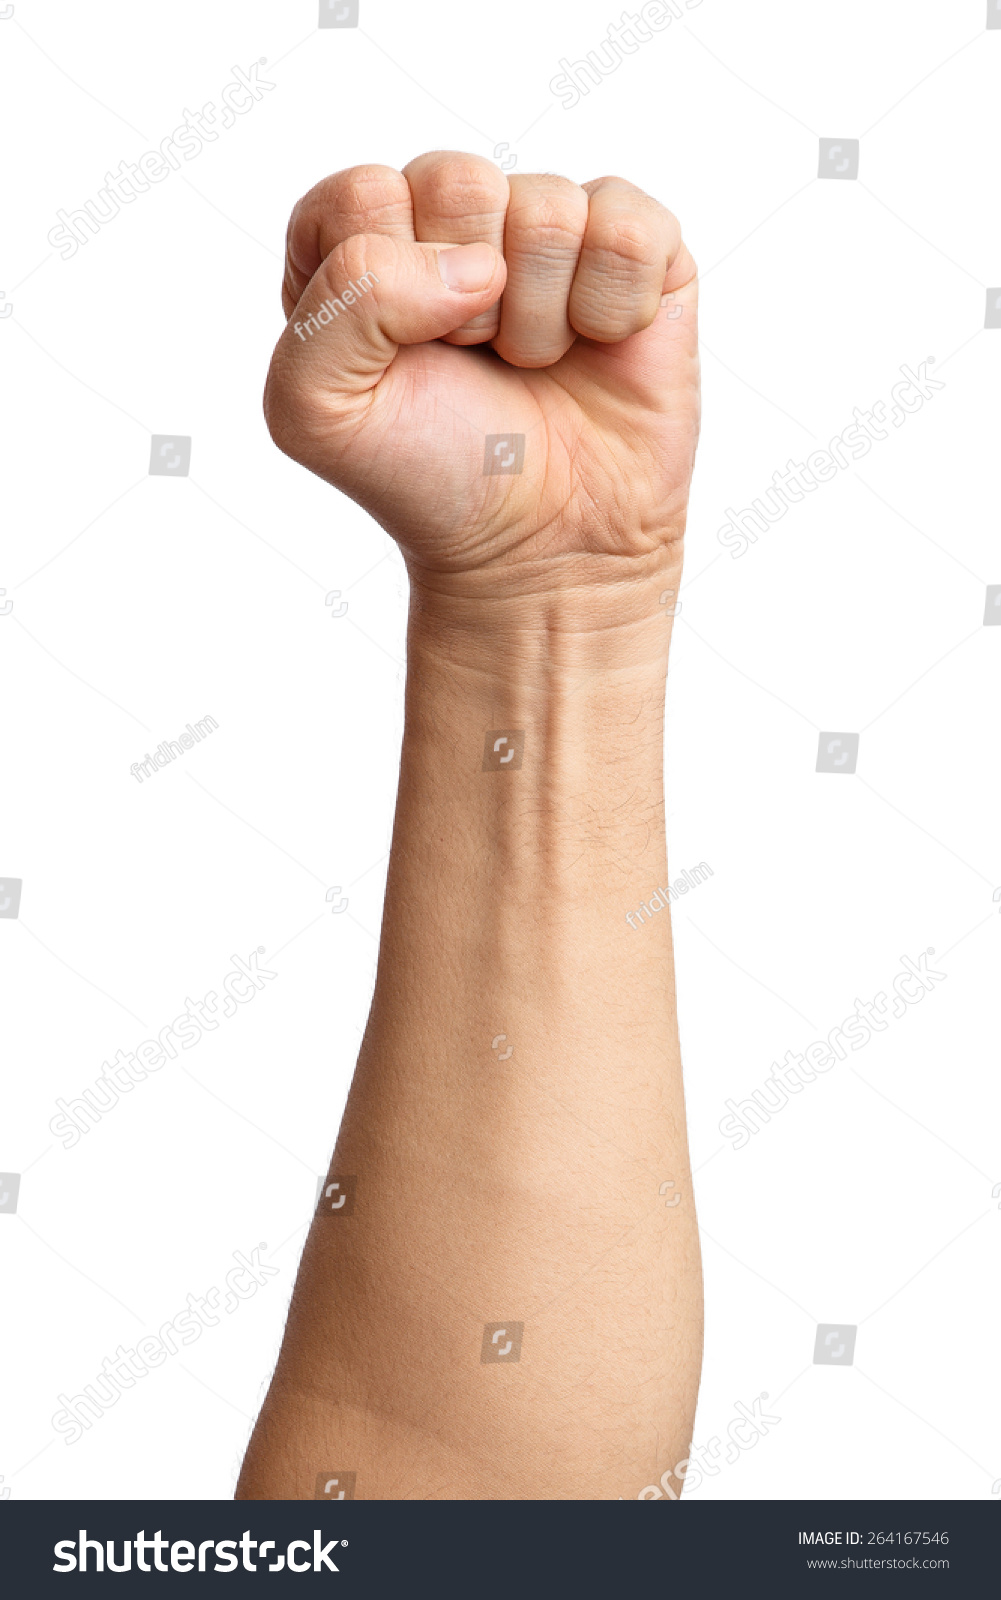fist: (262, 136, 715, 610)
